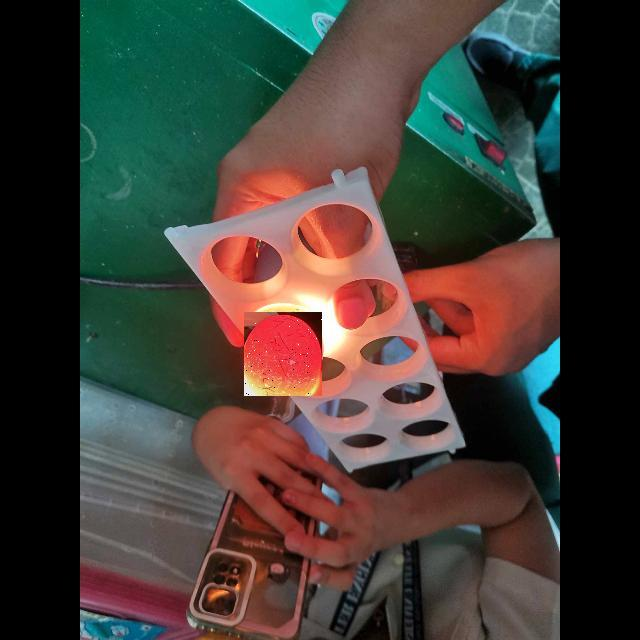Infertile: (244, 312, 322, 396)
